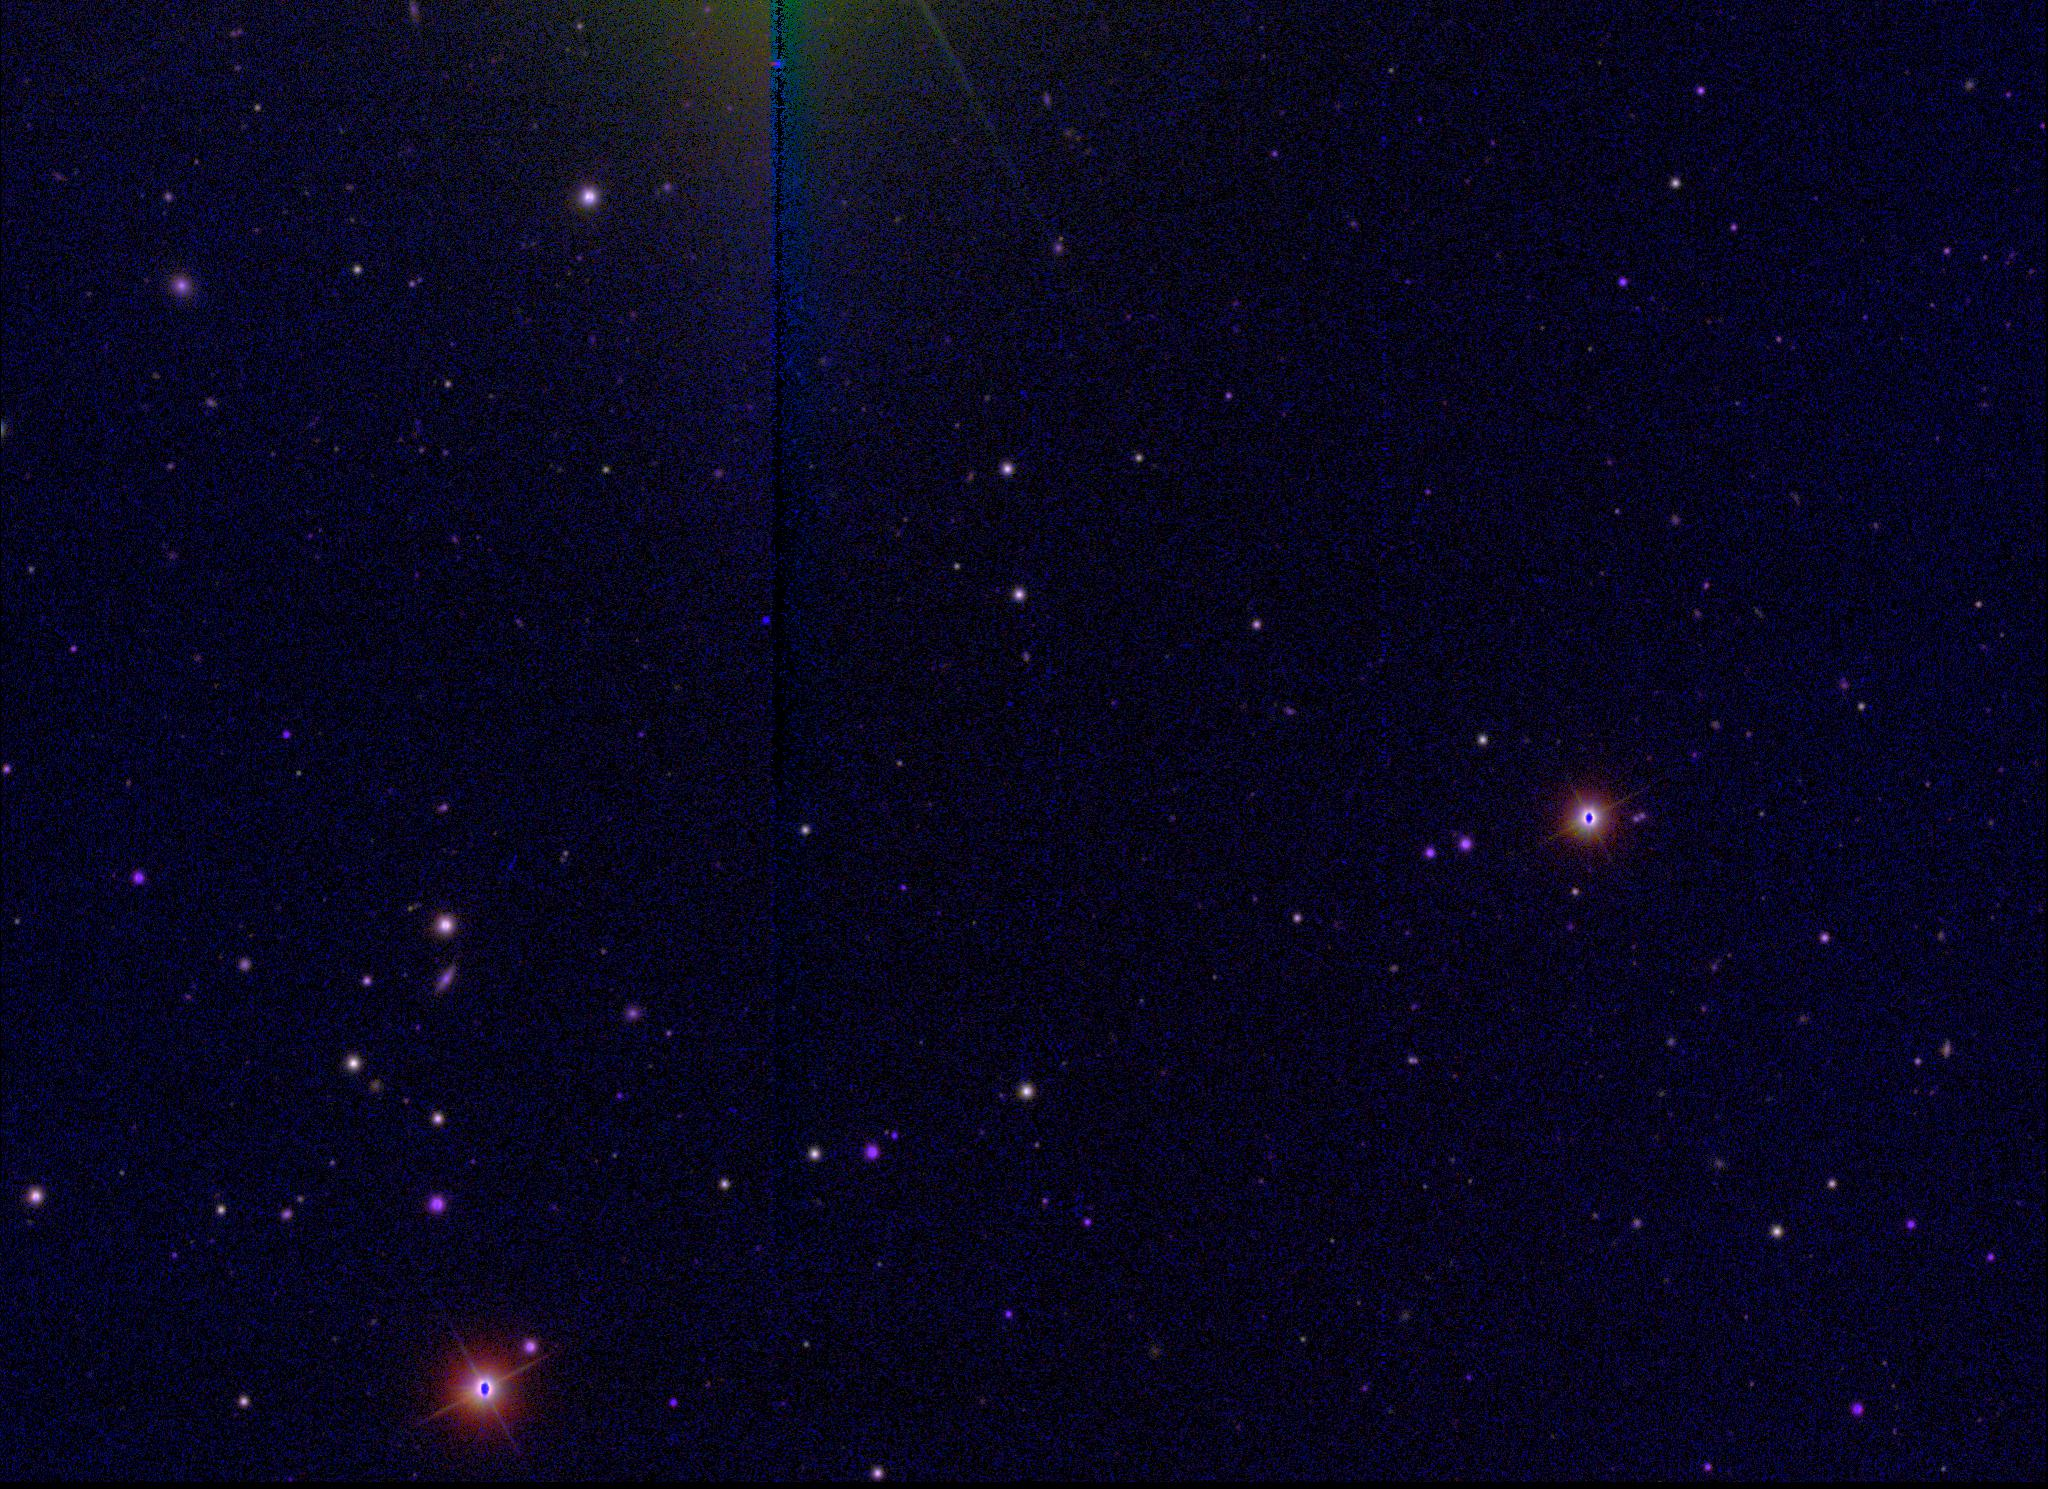L: (758, 612, 773, 627)
